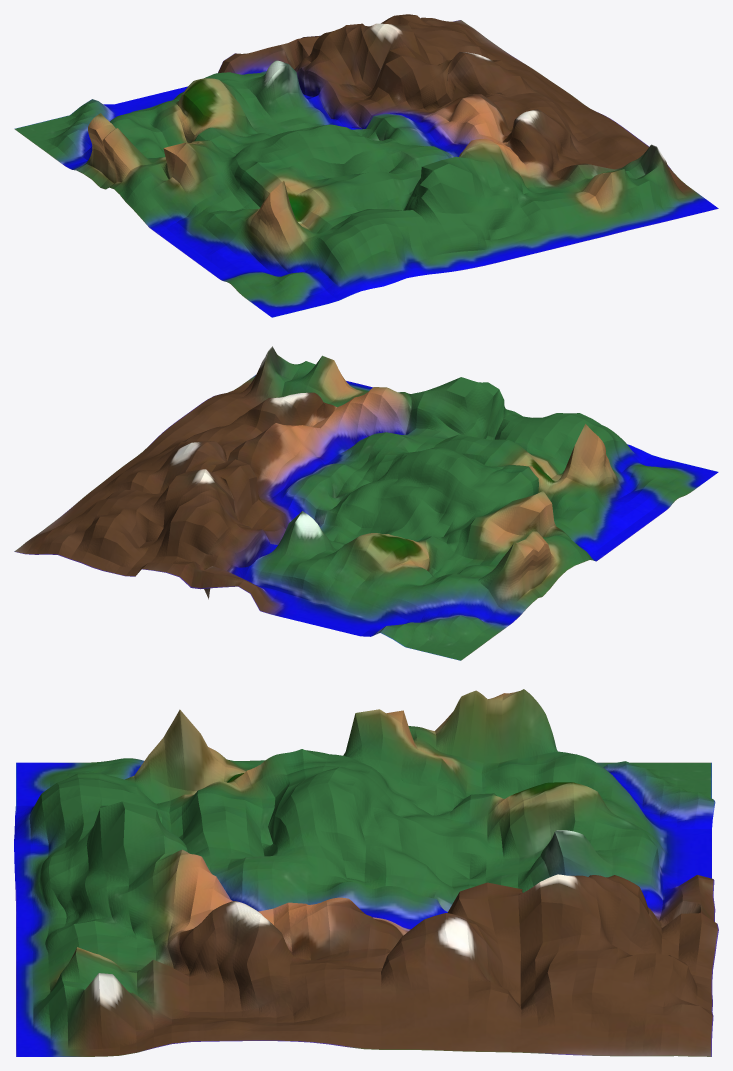
The model's file is MountainHillsUpdated.fbx.
The picture shows the model from 3 angles, top to bottom: view 1: azimuth 30°, elevation 25°; view 2: azimuth 150°, elevation 25°; view 3: azimuth 270°, elevation 25°; orthographic projection. The views are drawn at different scales.
Visible parts, largest first — view 1: MountainHills; view 2: MountainHills; view 3: MountainHills.
Part boxes in pixels (x1=…): MountainHills: x1=14, y1=14, x2=718, y2=317; MountainHills: x1=14, y1=346, x2=718, y2=660; MountainHills: x1=14, y1=689, x2=718, y2=1056.
Size of the model in its own units: 1871 by 370 by 1868.
Materials: 1 (1 with a texture image).
